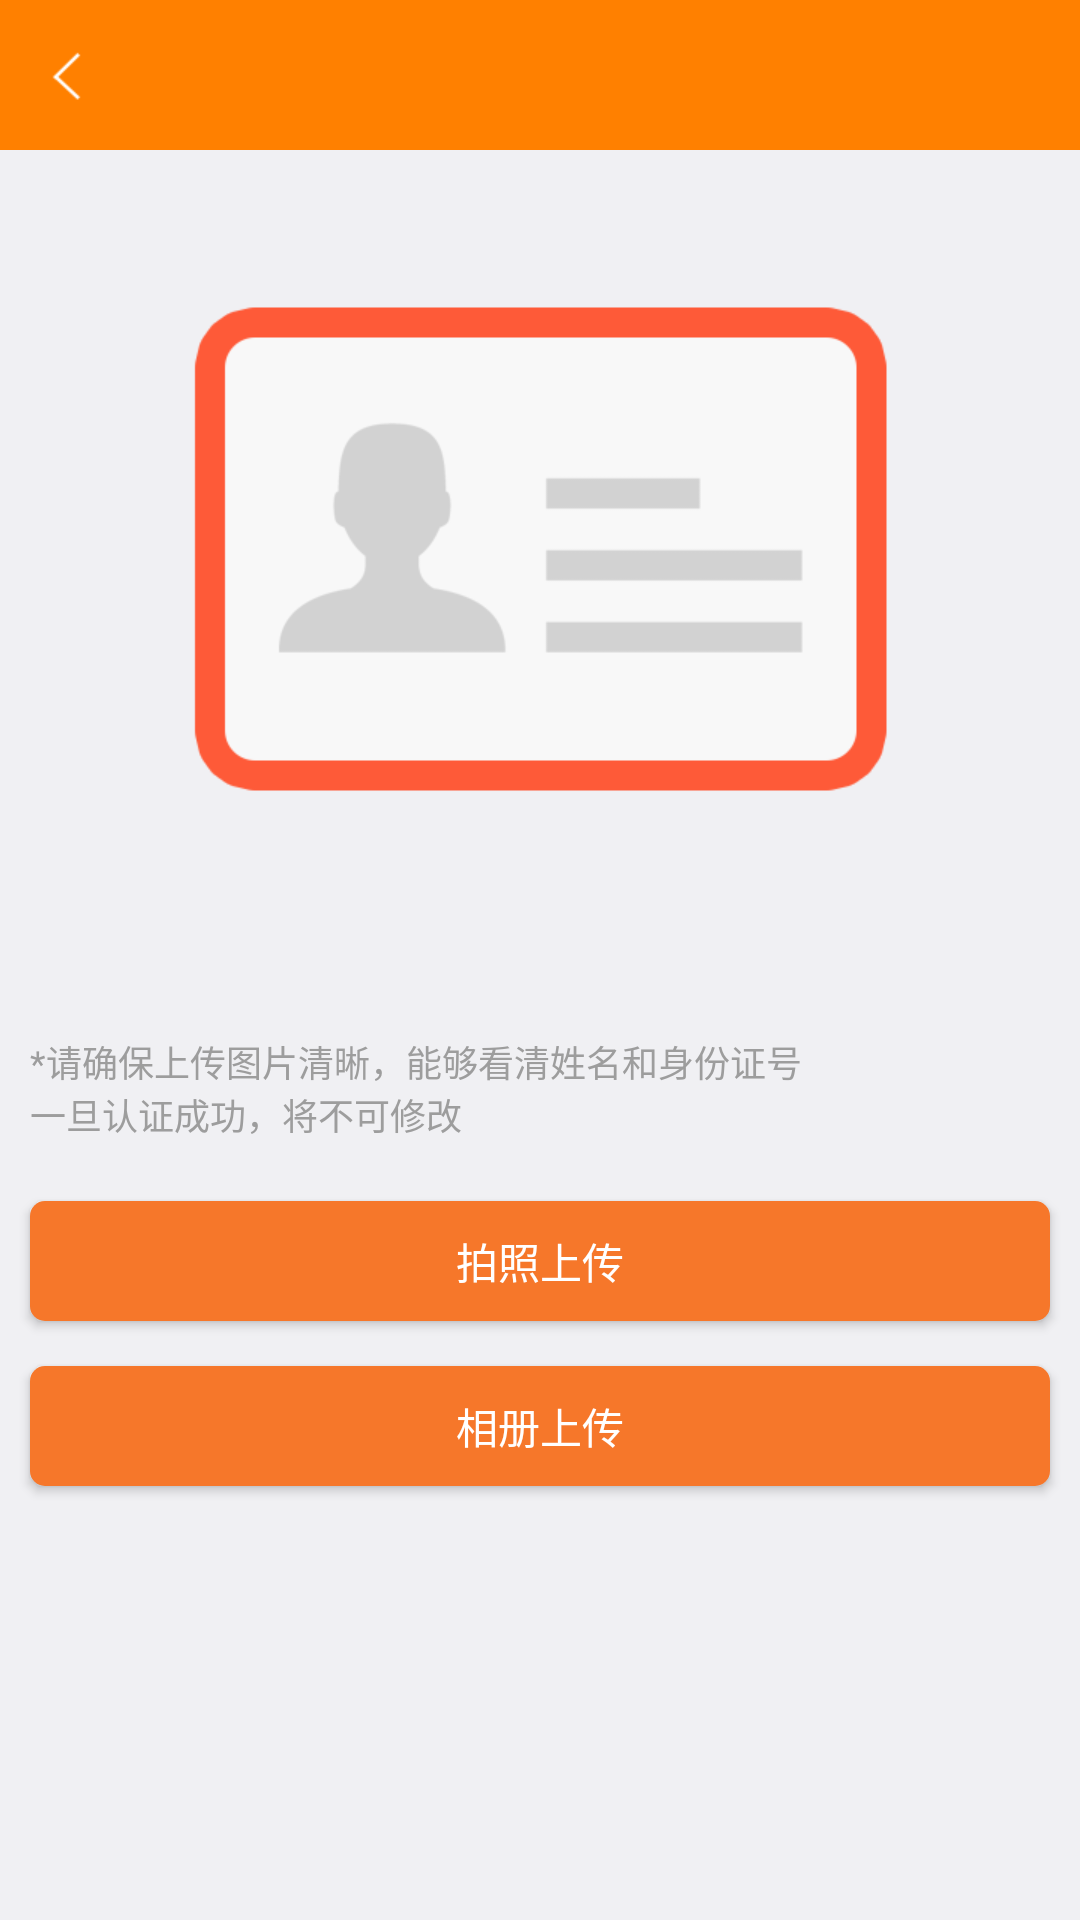

Icon click points for this 1080 × 1920 phone screenshot, format point (x, y):
title back: point (67, 76)
